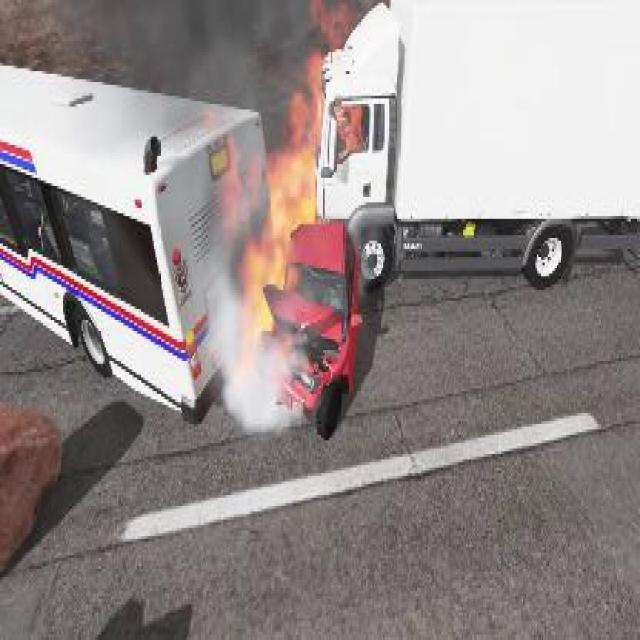accident: (0, 0, 638, 435), (260, 0, 638, 438), (0, 0, 368, 435)
